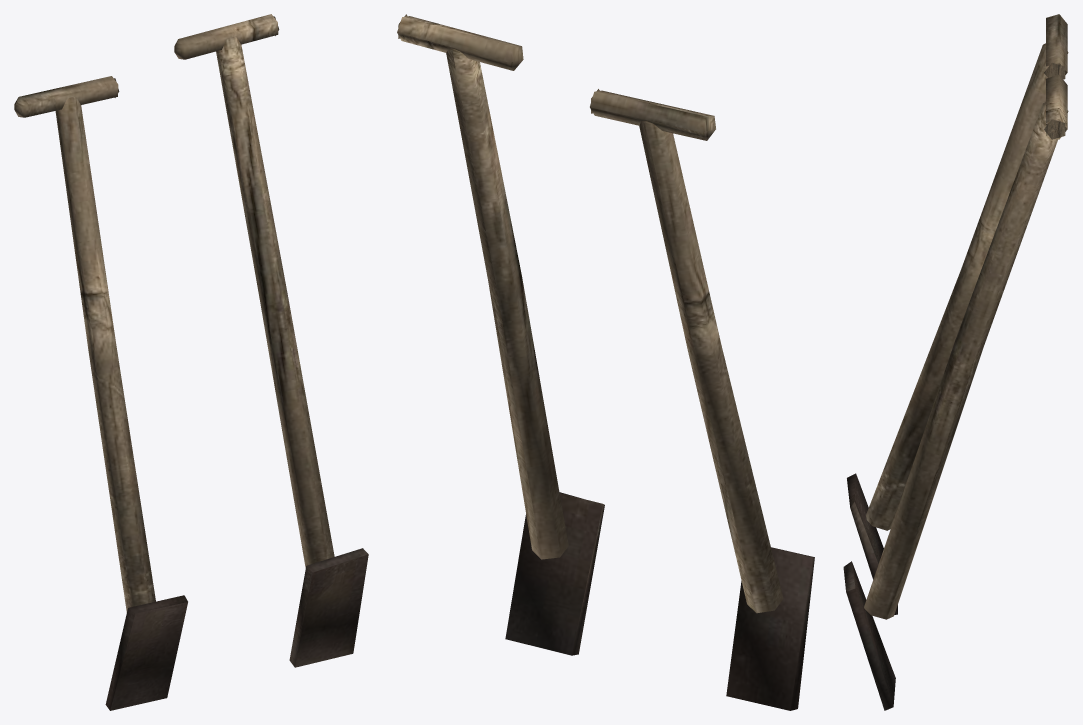
Rendered from kit_lw_small_spades_p.glb.
The picture shows the model from 3 angles, left to right: view 1: azimuth 30°, elevation 25°; view 2: azimuth 150°, elevation 25°; view 3: azimuth 270°, elevation 25°; orthographic projection. The views are drawn at different scales.
Parts seen in each view (by area): view 1: kit_lw_small_spades_p; view 2: kit_lw_small_spades_p; view 3: kit_lw_small_spades_p.
Boxes of the visible parts, x1,y1,x2,y2 form: kit_lw_small_spades_p: [14, 14, 368, 710]; kit_lw_small_spades_p: [397, 14, 814, 710]; kit_lw_small_spades_p: [843, 14, 1068, 710].
Size of the model in its own units: 0.3893 by 0.8269 by 0.2842.
Materials: 1 (1 with a texture image).
